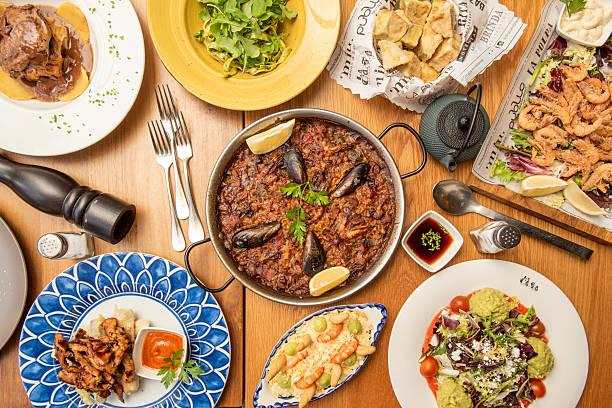Braised Crucian Carp: (202, 108, 401, 306), (472, 3, 611, 241), (19, 253, 228, 407), (385, 260, 590, 406), (2, 0, 143, 158), (145, 0, 335, 112), (251, 303, 387, 406), (367, 0, 491, 106)
